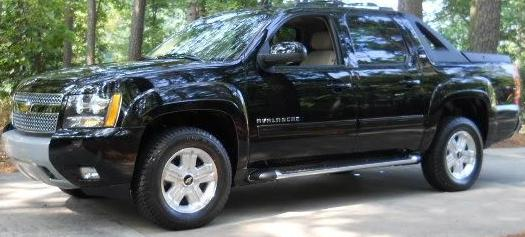front_view: (3, 74, 132, 197)
headlight: (57, 89, 125, 137)
side_glass: (263, 15, 419, 76)
